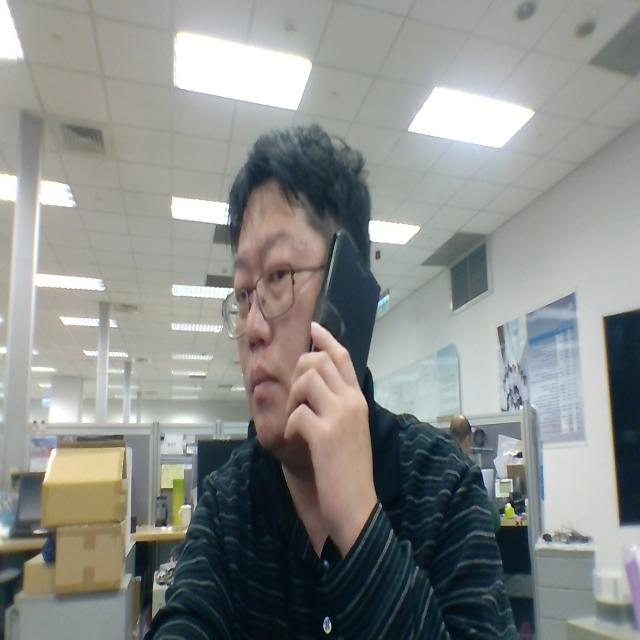phone: (314, 225, 382, 438)
